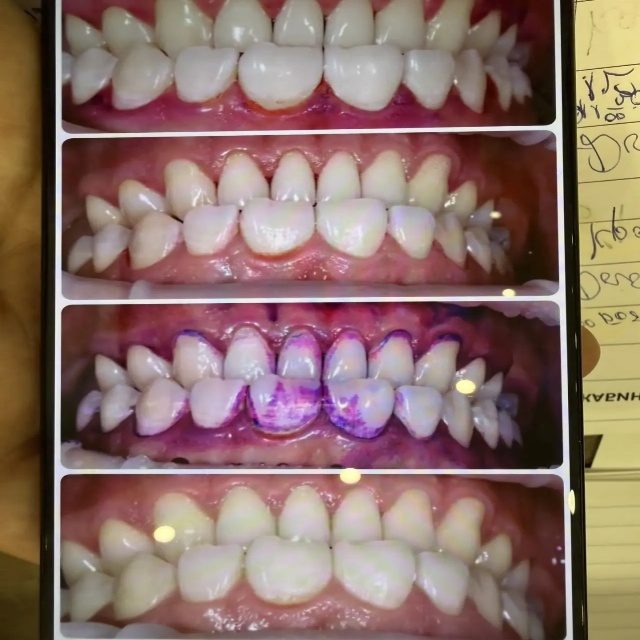clean_tooth: (100, 490, 376, 616), (391, 490, 507, 578), (367, 153, 473, 214), (327, 0, 421, 58), (112, 12, 180, 91), (349, 499, 421, 567), (65, 541, 110, 615), (156, 0, 211, 56), (214, 0, 269, 52), (274, 0, 321, 55), (427, 0, 466, 59), (469, 576, 497, 616), (290, 488, 326, 518), (330, 157, 359, 193), (286, 571, 325, 596), (88, 200, 122, 227), (167, 164, 199, 188), (131, 238, 160, 262)
plaque: (136, 325, 464, 466), (340, 308, 458, 362)
